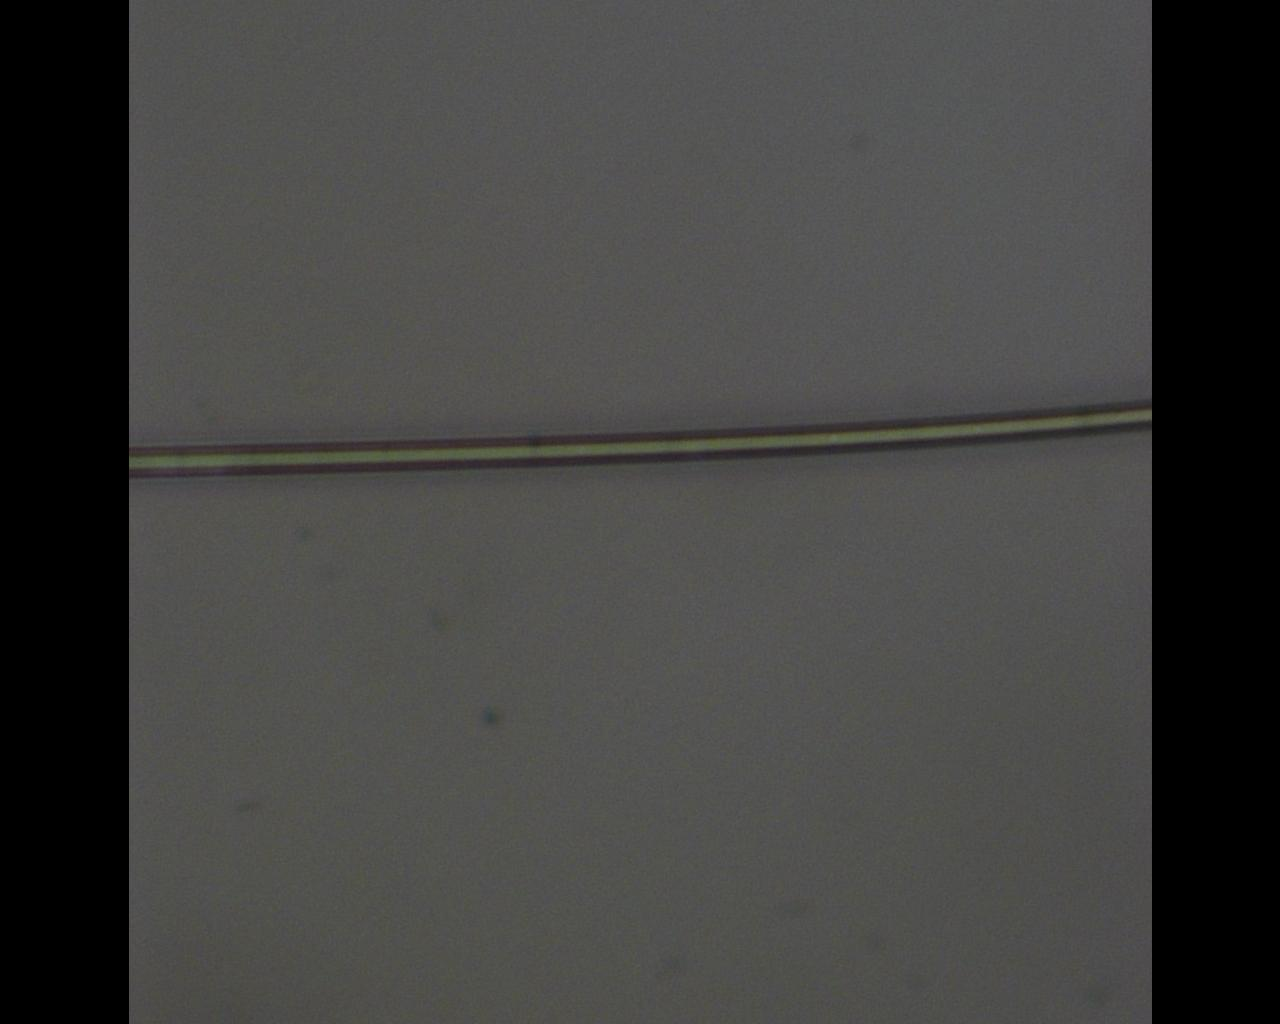fiber: (127, 399, 1151, 475)
